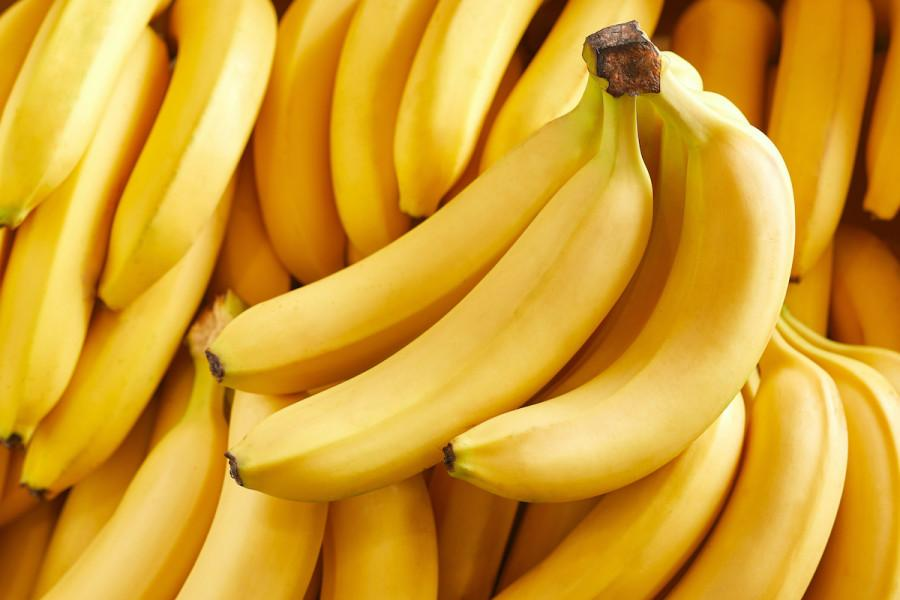chuoi: (206, 27, 797, 504)
